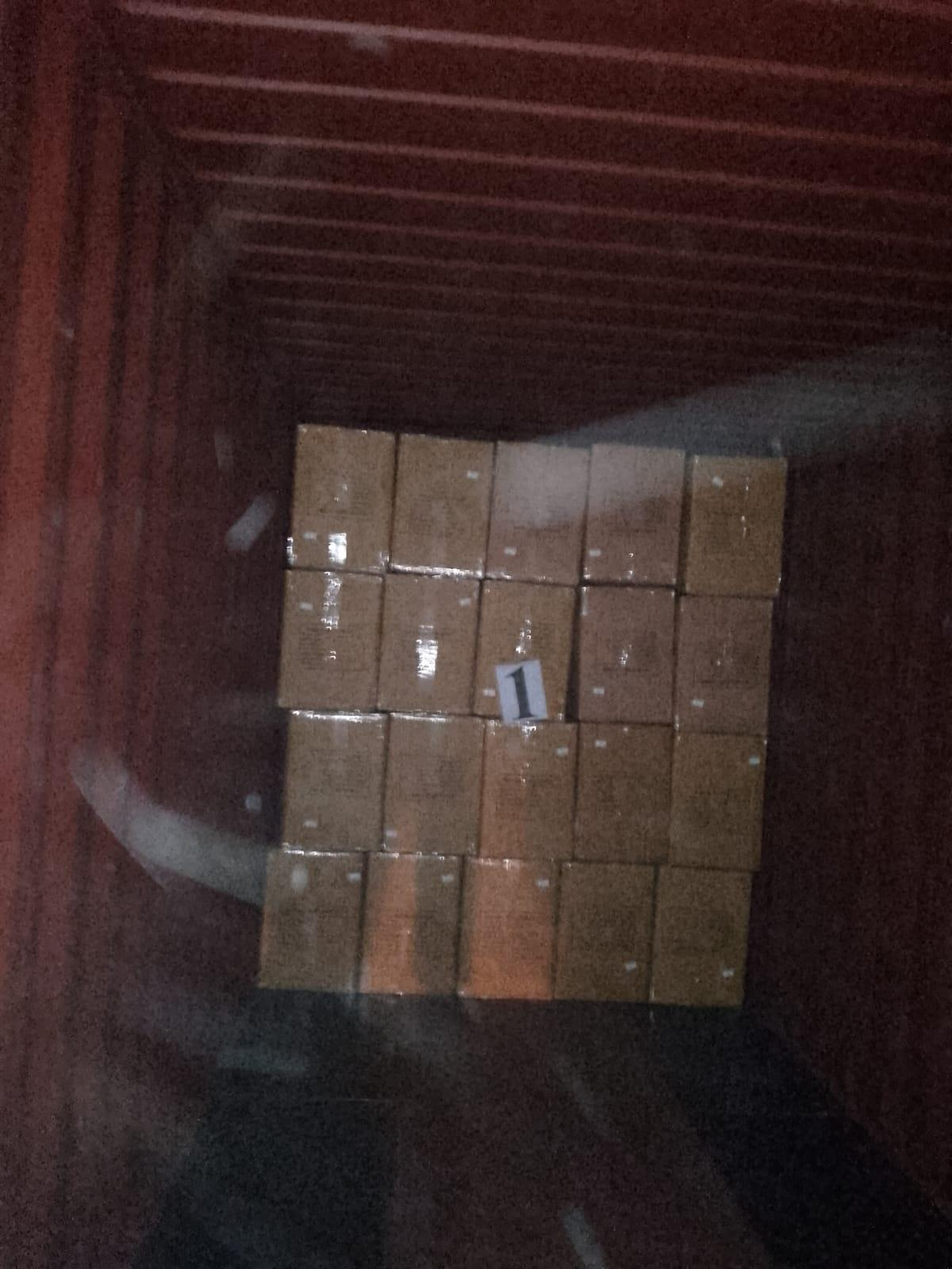carton: (288, 426, 395, 573), (278, 570, 383, 711), (282, 711, 387, 851), (259, 851, 364, 991), (486, 443, 589, 585), (390, 435, 493, 577), (583, 445, 685, 587), (682, 457, 786, 596), (377, 574, 479, 715), (383, 715, 485, 855), (360, 855, 462, 995), (650, 866, 751, 1006), (473, 581, 575, 719), (574, 723, 673, 864), (458, 859, 557, 999), (555, 863, 654, 1002), (675, 596, 773, 735), (576, 586, 675, 723), (479, 722, 577, 860), (668, 733, 766, 871)
